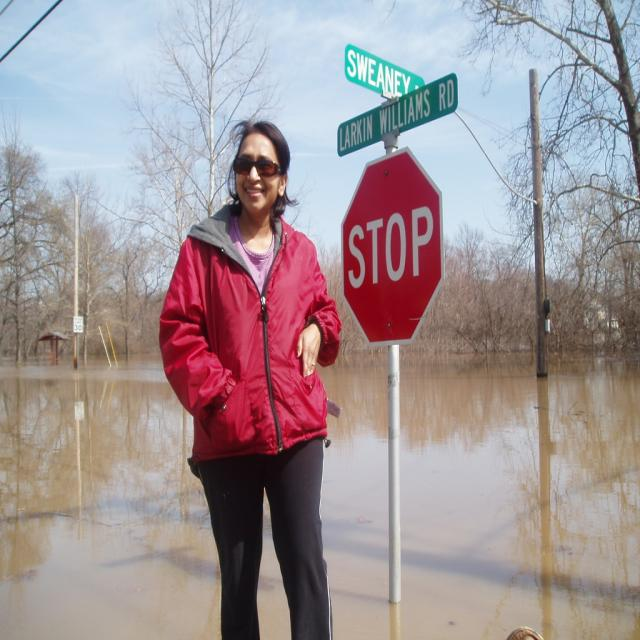Stop-sign: (341, 144, 447, 350)
